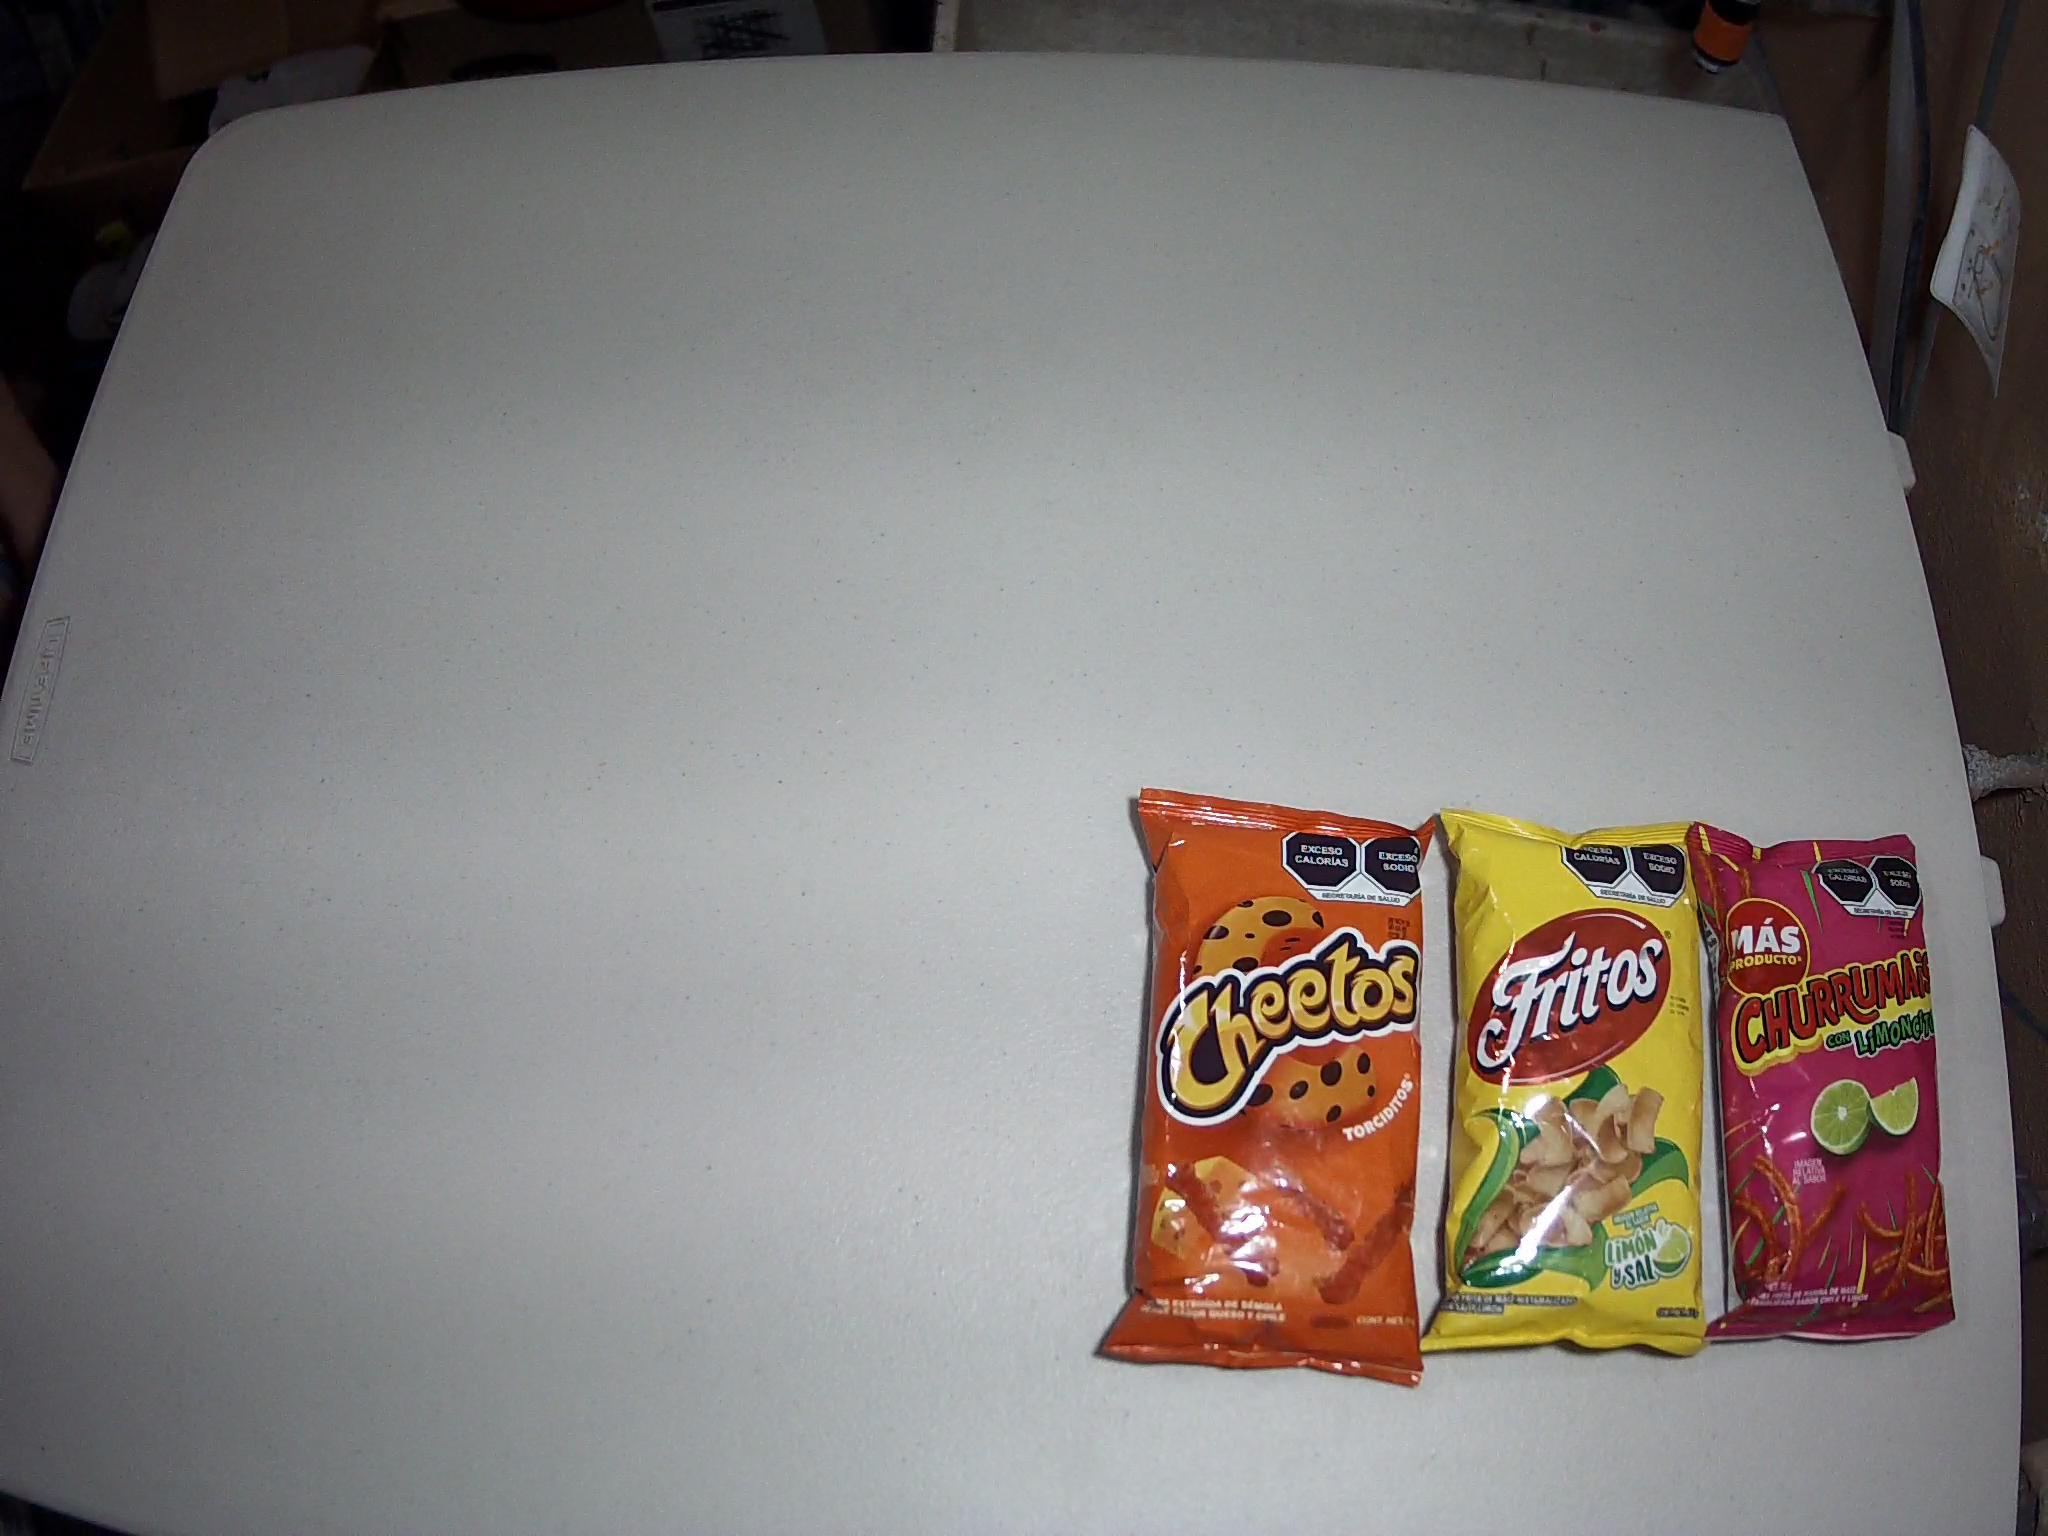CheetosTorciditos_55_F: (1098, 787, 1442, 1391)
Churrumais_70_F: (1684, 821, 1954, 1342)
FritosSalLimon_65_F: (1417, 807, 1709, 1357)
